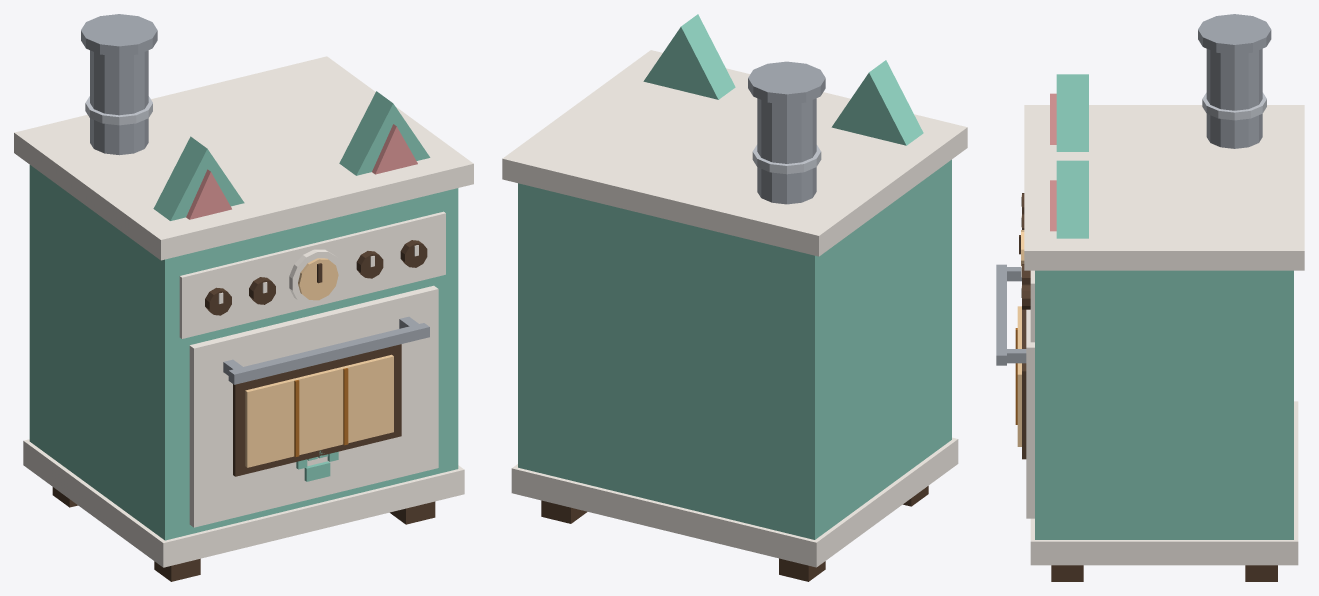
The model's file is CatCafe_Cafe_Oven.glb.
The picture shows the model from 3 angles, left to right: view 1: azimuth 30°, elevation 25°; view 2: azimuth 150°, elevation 25°; view 3: azimuth 270°, elevation 25°; orthographic projection. The views are drawn at different scales.
Visible parts, largest first — view 1: CatCafe_Cafe_Oven, CatCafe_Cafe_Oven_Door; view 2: CatCafe_Cafe_Oven; view 3: CatCafe_Cafe_Oven, CatCafe_Cafe_Oven_Door.
Part boxes in pixels (bbox=[...]): CatCafe_Cafe_Oven: bbox=[14, 14, 473, 581]; CatCafe_Cafe_Oven_Door: bbox=[189, 285, 438, 527]; CatCafe_Cafe_Oven: bbox=[502, 14, 967, 581]; CatCafe_Cafe_Oven: bbox=[1019, 14, 1304, 581]; CatCafe_Cafe_Oven_Door: bbox=[996, 264, 1034, 518].
Size of the model in its own units: 3.2 by 4.6 by 2.86.
1 material, 1 textured.
